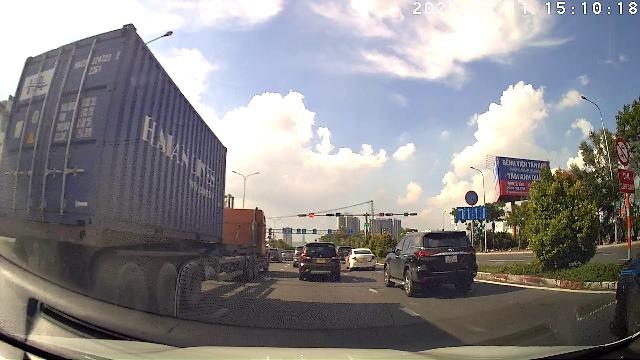131a-cam-do-xe: (465, 191, 478, 206)
